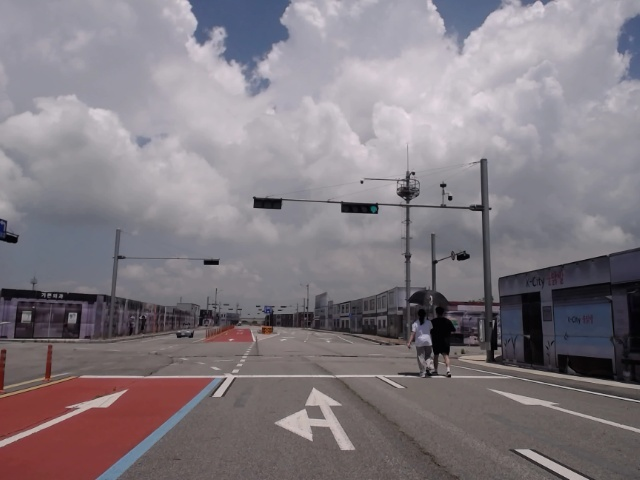straight_green_4: (338, 202, 378, 213)
